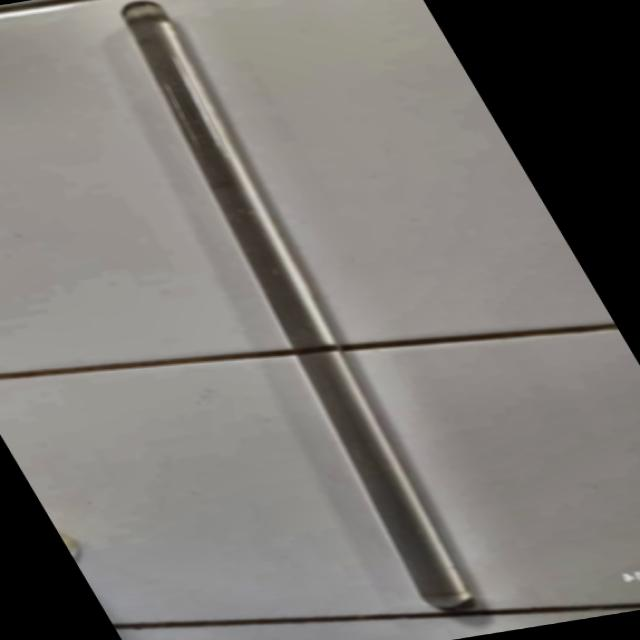Stirrer: (73, 0, 530, 626)
